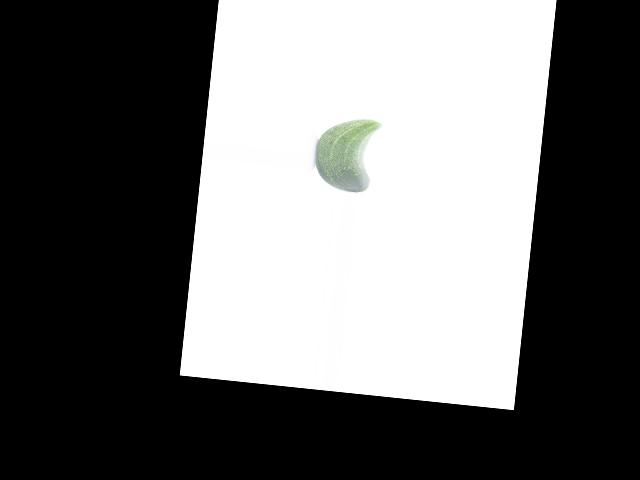cucumber: (312, 113, 381, 194)
